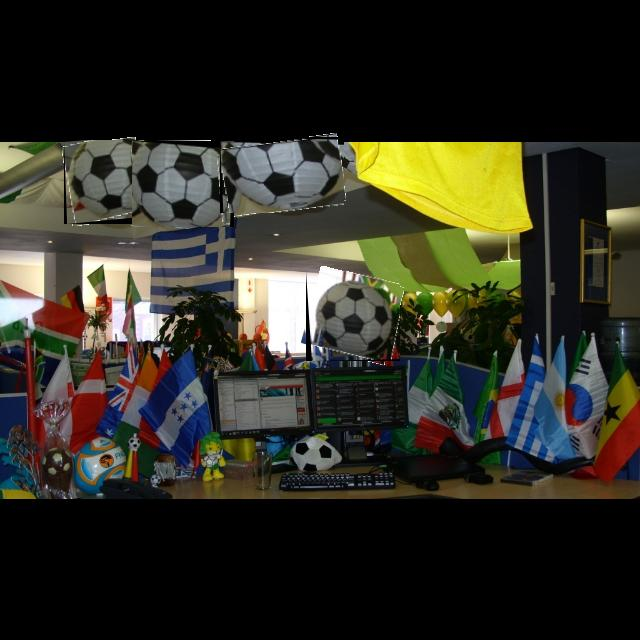Football: (220, 137, 344, 213), (132, 141, 234, 227), (306, 271, 400, 361), (64, 140, 144, 224)
